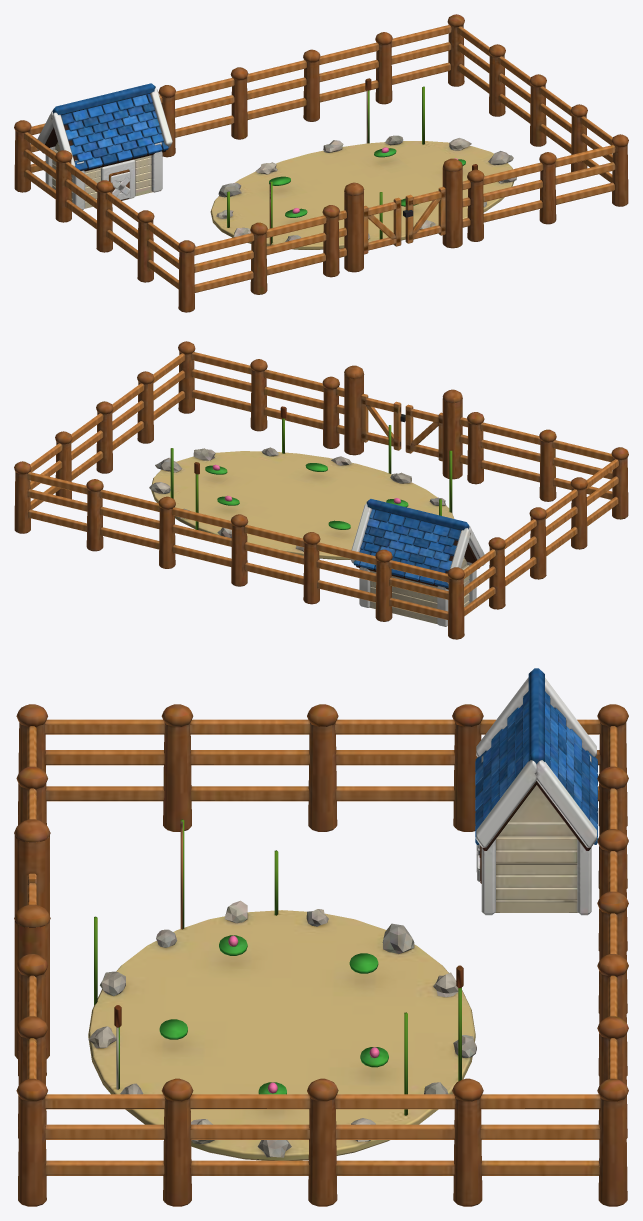
File: pekin_pond.glb
The picture shows the model from 3 angles, top to bottom: view 1: azimuth 30°, elevation 25°; view 2: azimuth 150°, elevation 25°; view 3: azimuth 270°, elevation 25°; orthographic projection. The views are drawn at different scales.
Visible parts, largest first — view 1: pekin_pond, gate1, gate0; view 2: pekin_pond, gate1, gate0; view 3: pekin_pond.
Boxes of the visible parts, x1,y1,x2,y2 form: pekin_pond: (14,14,628,312); gate1: (403,186,445,243); gate0: (364,197,401,254); pekin_pond: (14,341,628,639); gate1: (361,393,405,450); gate0: (405,404,442,461); pekin_pond: (14,668,628,1206).
Size of the model in its own units: 3 by 0.615 by 2.01.
1 material, 1 textured.
